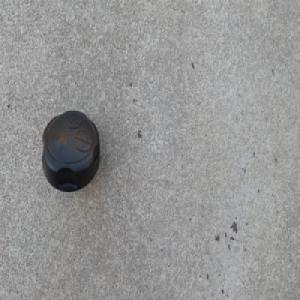FuelCap: (40, 108, 101, 194)
